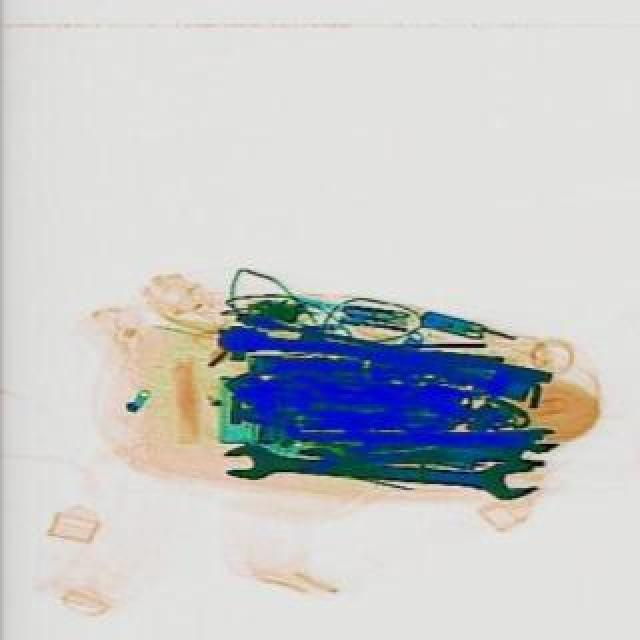scissors: (220, 440, 536, 496), (346, 426, 554, 452)
